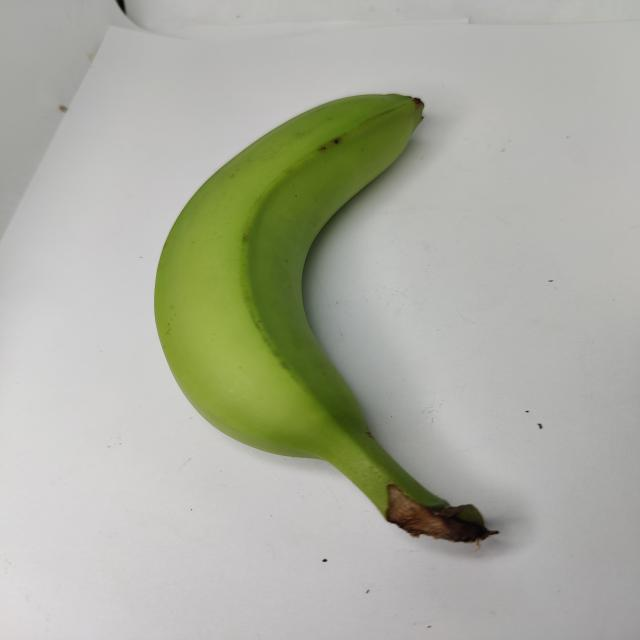raw: (121, 68, 524, 572)
